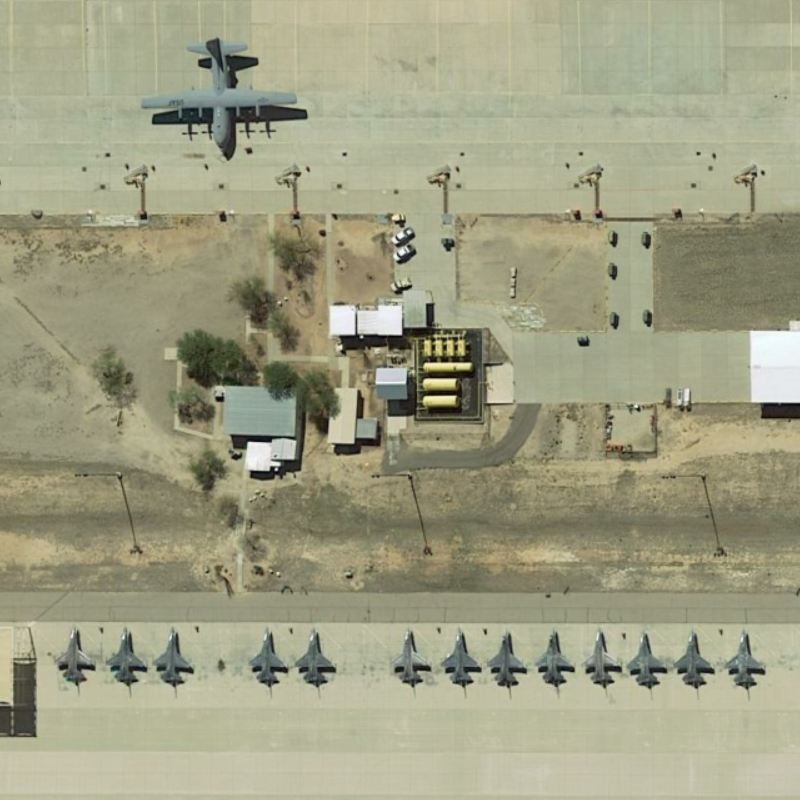A2: (138, 33, 308, 158)
A5: (387, 624, 437, 698), (722, 628, 775, 694), (245, 622, 291, 696), (53, 616, 97, 692), (153, 625, 200, 694), (293, 628, 340, 694), (624, 626, 670, 691), (103, 621, 148, 686), (484, 627, 531, 689), (531, 622, 572, 693), (675, 623, 716, 694), (582, 622, 624, 689), (439, 627, 481, 689)
